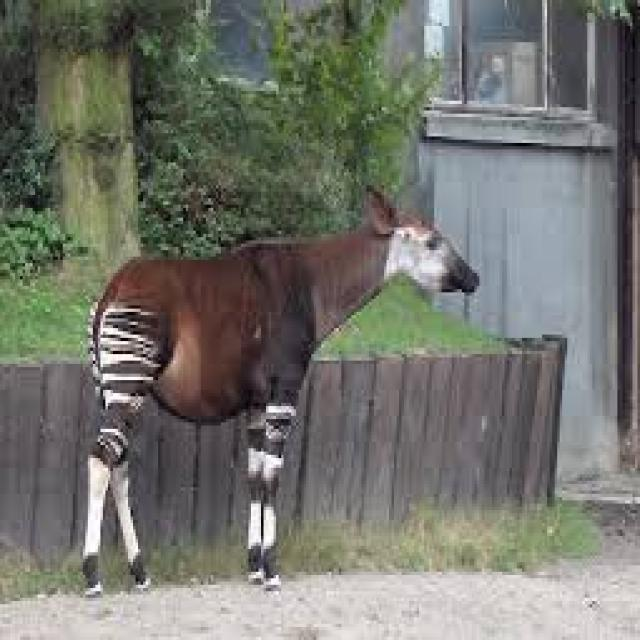Okapi: (67, 182, 484, 599)
